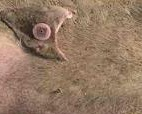text: (27, 20, 58, 45)
